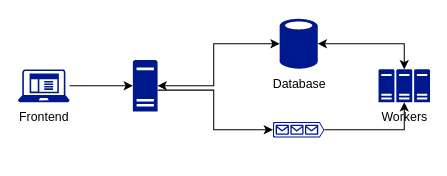
Image size: 447x176. Some labels were removed from this diagram. The centre of each missing label's shape, as x and y in pixels:
Backend: the point at 144,85
Queue: the point at 298,129
